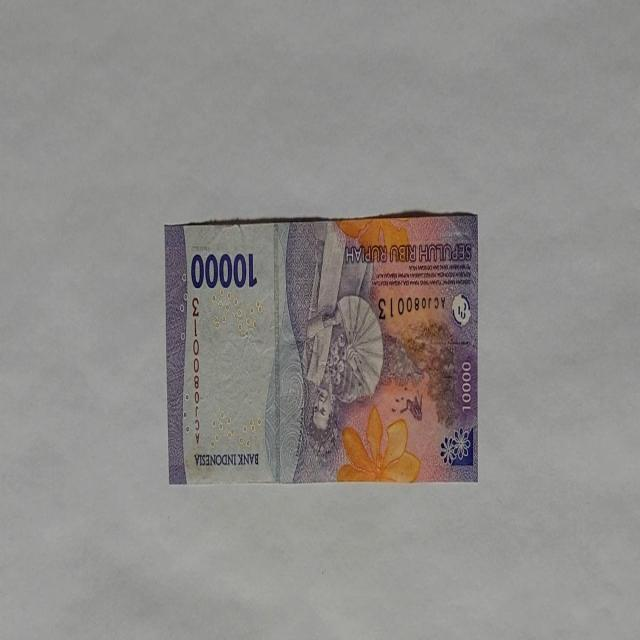Kertas: (165, 211, 480, 485), (190, 249, 258, 291)
